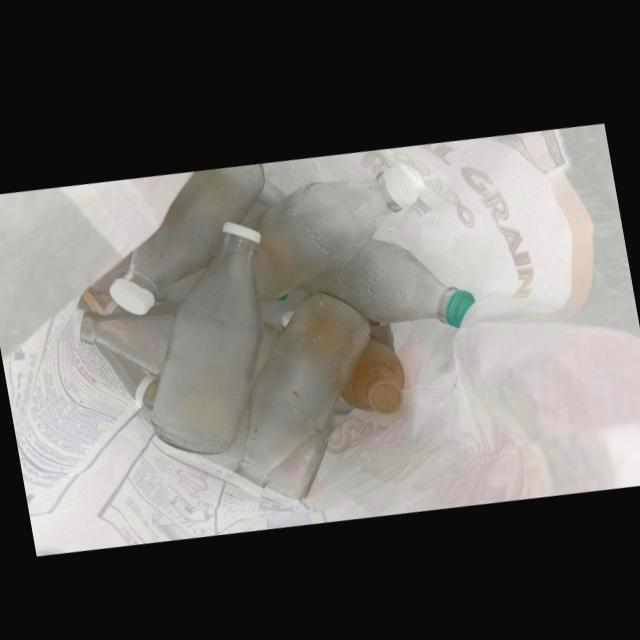glass_bottle: (231, 287, 370, 494), (151, 218, 263, 451), (241, 157, 419, 297), (108, 159, 265, 312), (319, 232, 475, 321), (74, 301, 176, 371)
